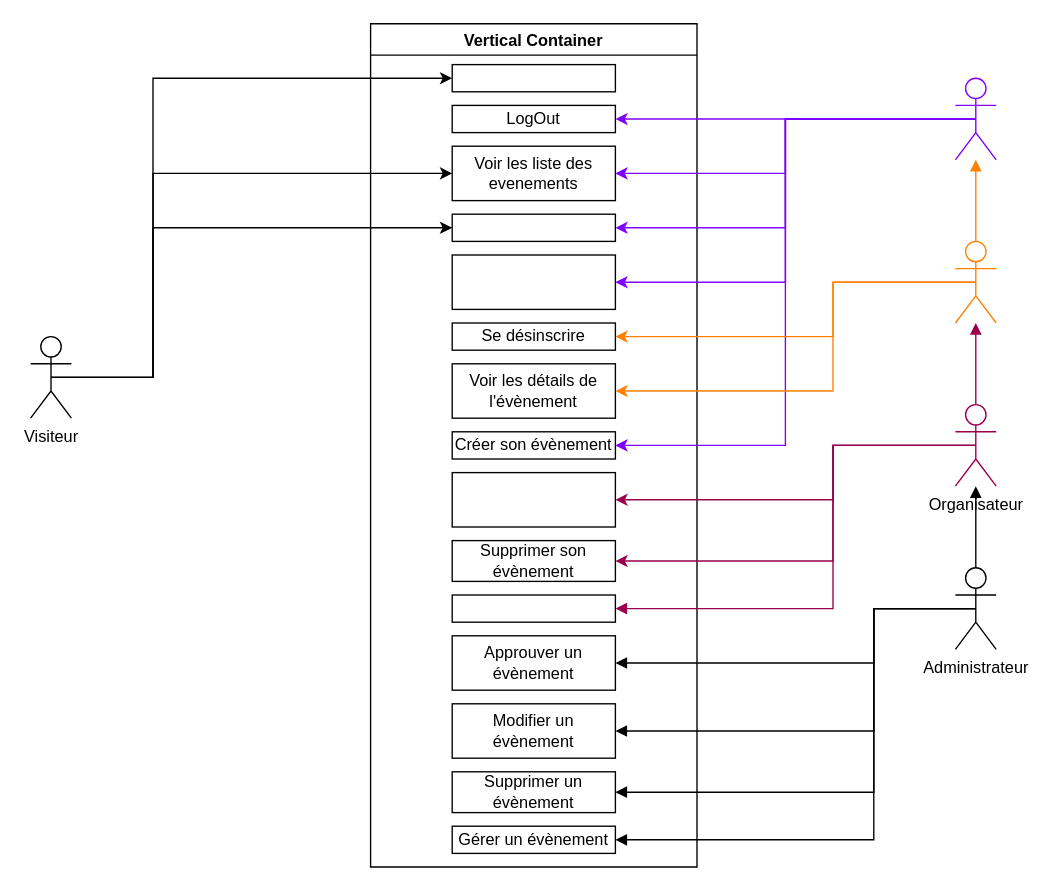
Some shapes in this 1051 by 891 pixel diagram are drawn without their labels. The centre of each missing label's shape, as x and y in pixels:
"Gérer son évènement" goes at (x=533, y=608).
"Login" goes at (x=533, y=77).
"Modifier son évènement" goes at (x=533, y=499).
"Participant" goes at (x=975, y=281).
"S'inscrire a un évènements" goes at (x=533, y=281).
"Utilisateur" goes at (x=975, y=118).
"Voir un évènement" goes at (x=533, y=227).
